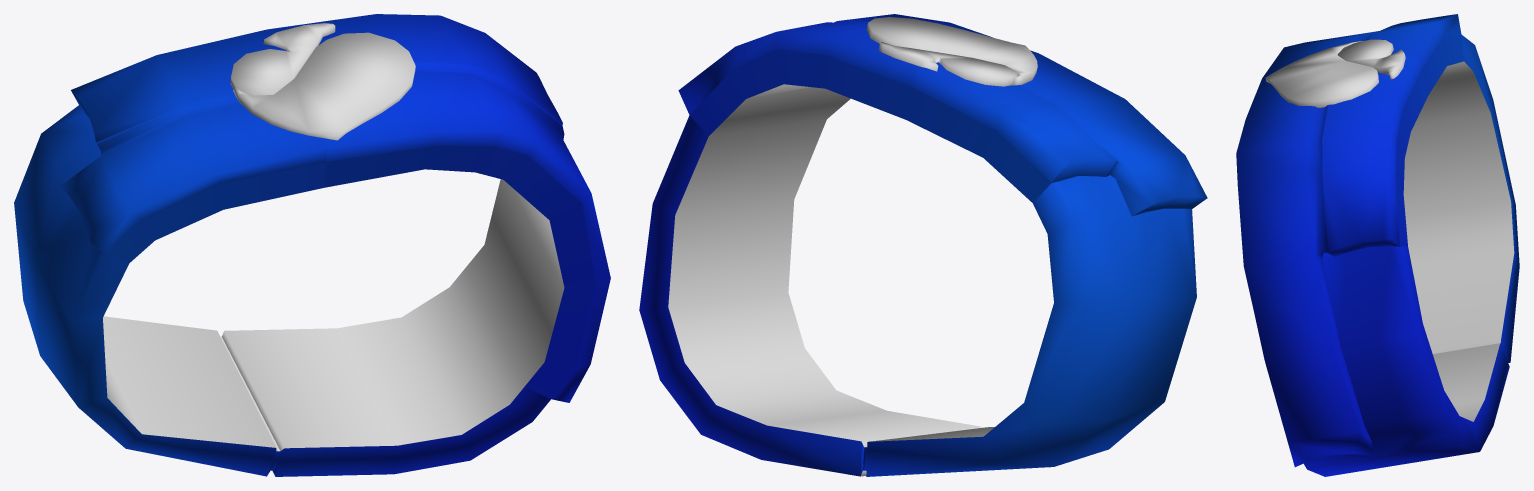
Rendered from bracelet_v01.fbx.
3 views of the same model, side by side, from view 1: azimuth 30°, elevation 25°; view 2: azimuth 150°, elevation 25°; view 3: azimuth 270°, elevation 25° (orthographic). The views are drawn at different scales.
Visible parts, largest first — view 1: bracelet, logoCapgemini; view 2: bracelet, logoCapgemini; view 3: bracelet, logoCapgemini.
Boxes of the visible parts, box(x1,y1,x2,y2) form: bracelet: box(14, 14, 610, 476); logoCapgemini: box(230, 23, 415, 140); bracelet: box(639, 14, 1207, 476); logoCapgemini: box(866, 17, 1037, 86); bracelet: box(1236, 14, 1519, 476); logoCapgemini: box(1265, 39, 1405, 107).
Size of the model in its own units: 0.0657 by 0.0539 by 0.0377.
